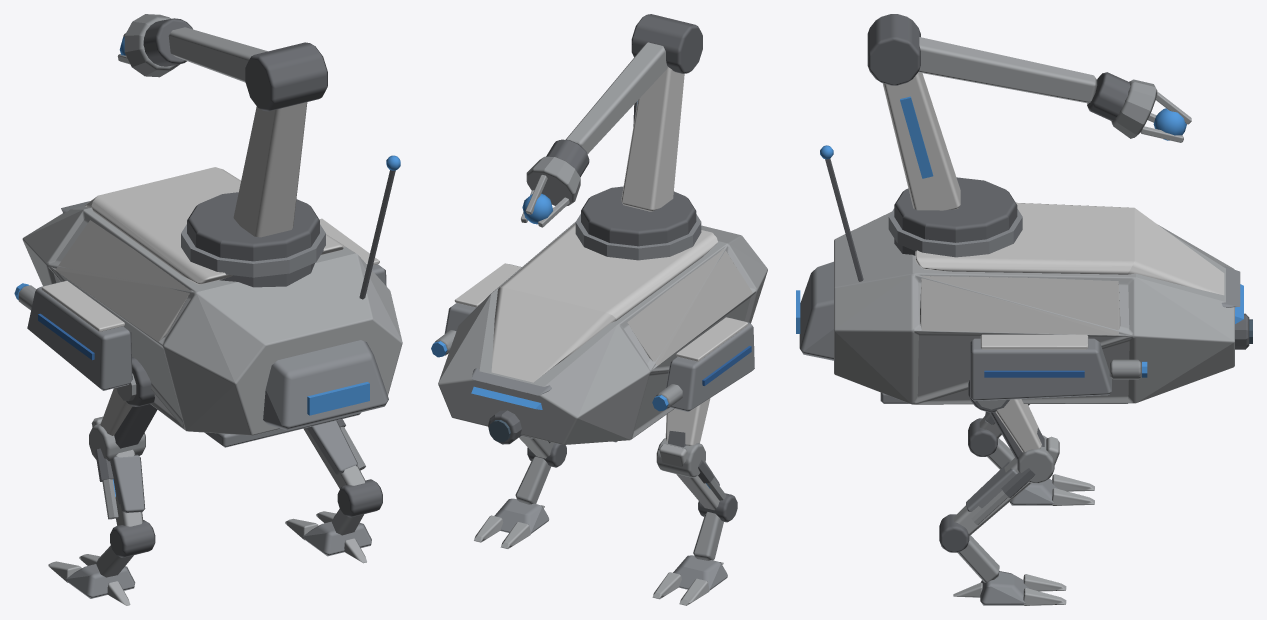
Rendered from lattice_surveyor.glb.
3 views of the same model, side by side, from view 1: azimuth 30°, elevation 25°; view 2: azimuth 150°, elevation 25°; view 3: azimuth 270°, elevation 25° (orthographic). The views are drawn at different scales.
Parts seen in each view (by area): view 1: Body; view 2: Body; view 3: Body.
Part boxes in pixels (left/top/right/bottom): Body: left=14, top=14, right=402, bottom=605; Body: left=431, top=14, right=767, bottom=605; Body: left=796, top=14, right=1252, bottom=605.
Size of the model in its own units: 0.87 by 1.6 by 1.28.
